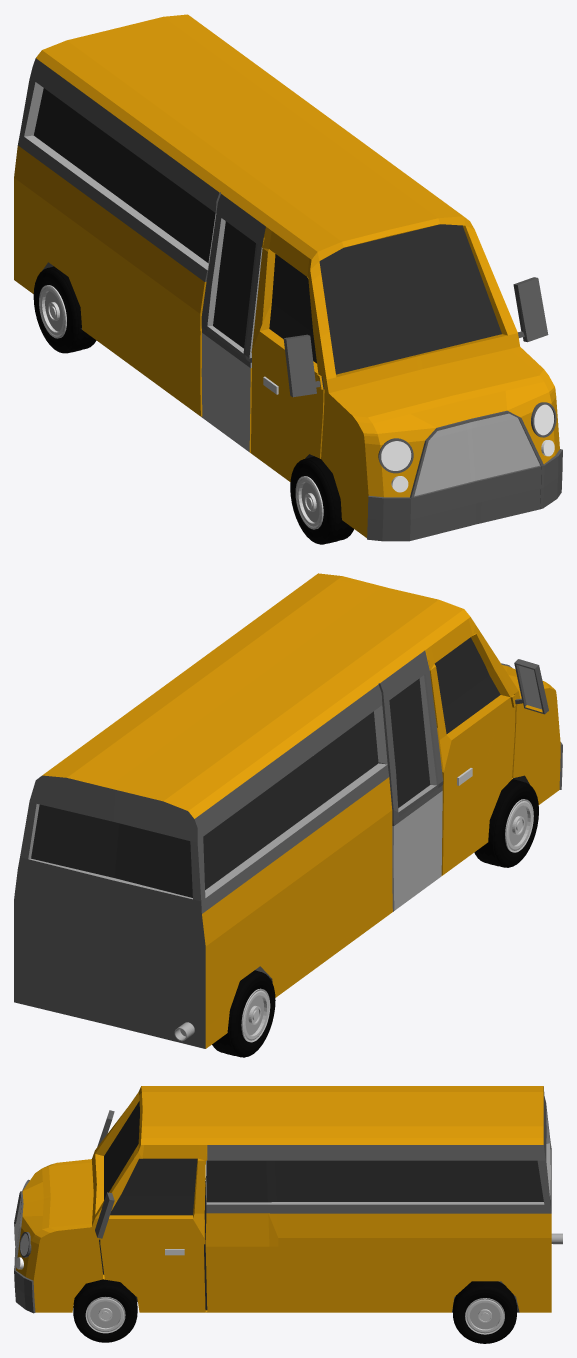
File: CR-CAR-7.fbx
The picture shows the model from 3 angles, top to bottom: view 1: azimuth 30°, elevation 25°; view 2: azimuth 150°, elevation 25°; view 3: azimuth 270°, elevation 25°; orthographic projection. The views are drawn at different scales.
Parts seen in each view (by area): view 1: BODY, WHEEL.001, WHEEL.004; view 2: BODY, WHEEL.001, WHEEL.004; view 3: BODY, WHEEL.002, WHEEL.003.
Part boxes in pixels (box(x1,y1,x2,y2)): BODY: box(14, 14, 562, 541); WHEEL.001: box(290, 456, 353, 544); WHEEL.004: box(33, 266, 96, 353); BODY: box(14, 573, 562, 1048); WHEEL.001: box(474, 779, 538, 867); WHEEL.004: box(212, 970, 275, 1057); BODY: box(14, 1086, 551, 1313); WHEEL.002: box(452, 1281, 517, 1343); WHEEL.003: box(73, 1279, 137, 1342).
Size of the model in its own units: 131 by 132 by 333.
